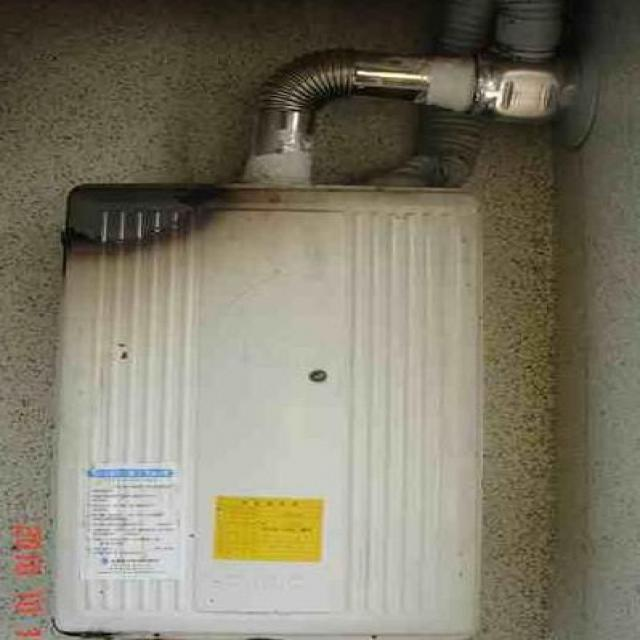Boiler: (24, 124, 540, 640)
